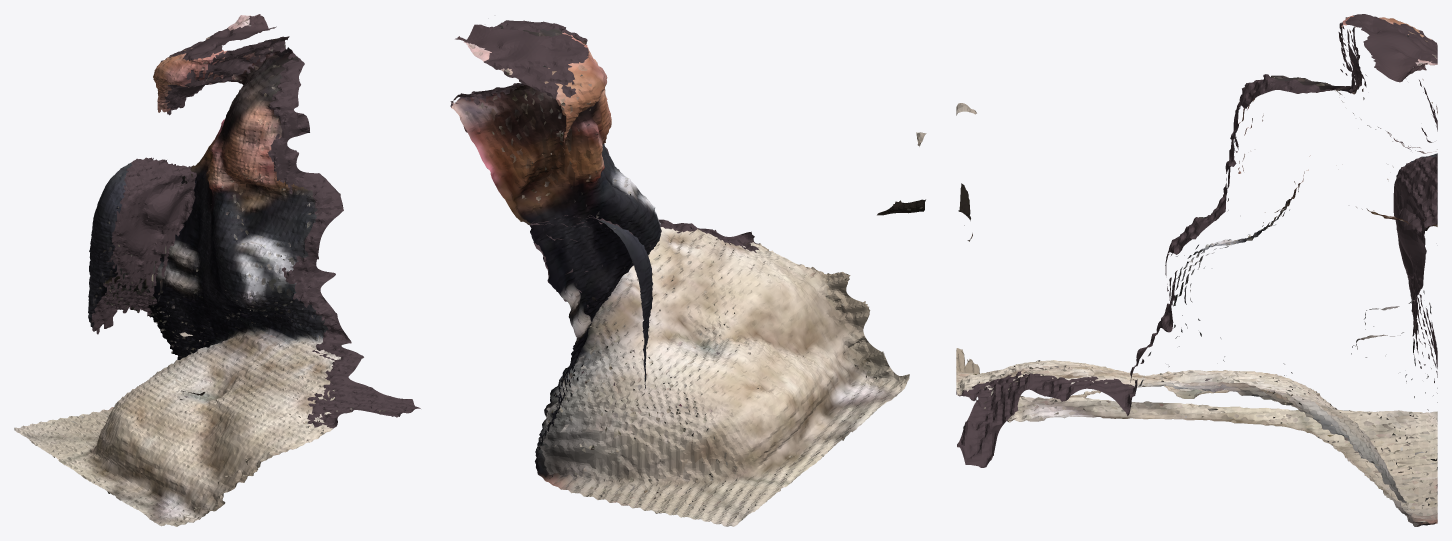
3 views of the same model, side by side, from view 1: azimuth 30°, elevation 25°; view 2: azimuth 150°, elevation 25°; view 3: azimuth 270°, elevation 25° (orthographic). The views are drawn at different scales.
Size of the model in its own units: 0.592 by 0.846 by 0.7119.
Materials: 1 (1 with a texture image).
